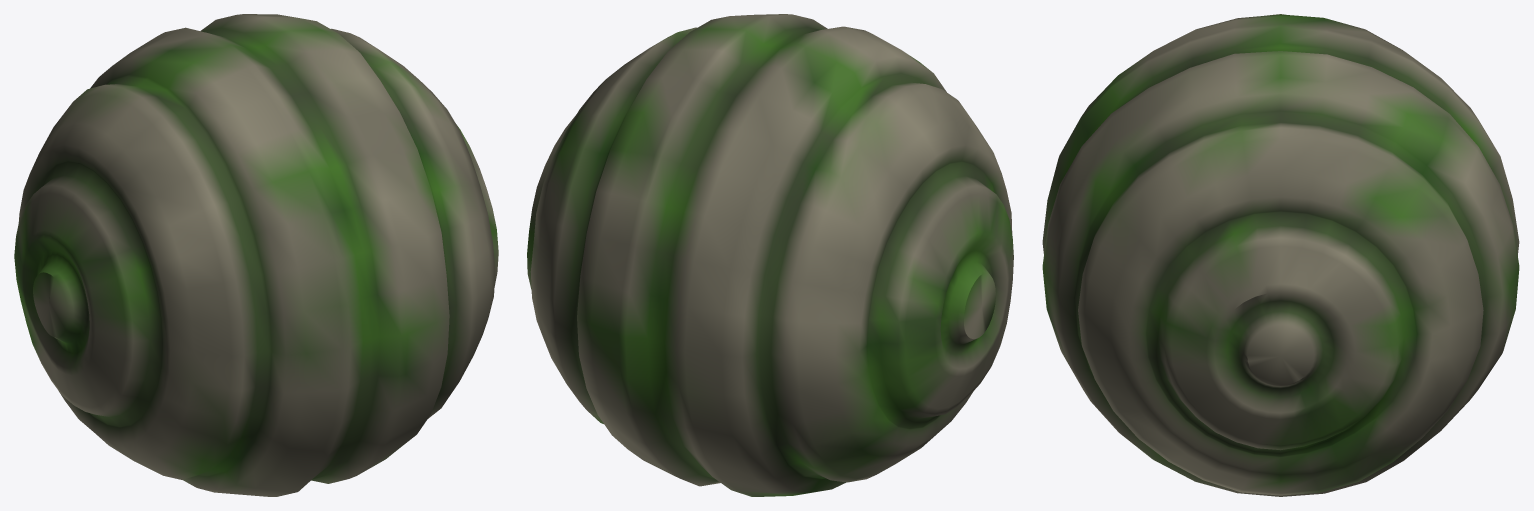
File: boulder.glb
The picture shows the model from 3 angles, left to right: view 1: azimuth 30°, elevation 25°; view 2: azimuth 150°, elevation 25°; view 3: azimuth 270°, elevation 25°; orthographic projection.
Parts seen in each view (by area): view 1: shell; view 2: shell; view 3: shell.
Part boxes in pixels (x1,y1,x2,y2): shell: (14, 14, 498, 496); shell: (527, 14, 1013, 496); shell: (1042, 14, 1519, 496).
Bounding box in the file's own units: 1.8 × 1.79 × 1.78.
